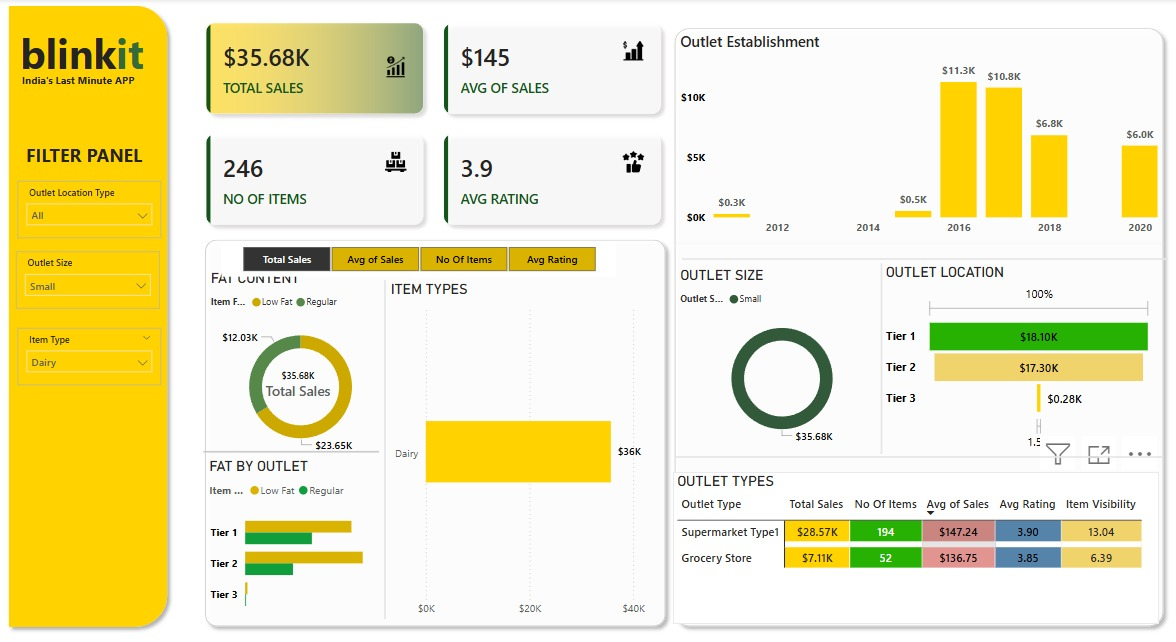

Layout of this report page (visuals, bound fields, positions):
{"tool":"powerbi","page":{"name":"Page 1","canvas":[1400,800],"ordinal":0},"visuals":[{"type":"shape","box":[10,0,205,750],"z":0},{"type":"textbox","box":[28.9,26.9,171.6,86.8],"z":1000},{"type":"textbox","box":[29.4,81.1,158.9,37.2],"z":2000},{"type":"cardVisual","fields":{"Data":["BlinkIT Grocery Data.Total Sales","BlinkIT Grocery Data.Avg of Sales","BlinkIT Grocery Data.No Of Items","BlinkIT Grocery Data.Avg Rating"]},"box":[235.6,12.2,570,273.3],"z":3000},{"type":"shape","box":[242.1,275.7,560.2,473.6],"z":4000},{"type":"donutChart","title":"FAT CONTENT","fields":{"Y":["BlinkIT Grocery Data.Total Sales"],"Category":["BlinkIT Grocery Data.Item Fat Content"]},"box":[251,328.7,220.9,229.8],"z":5000},{"type":"slicer","fields":{"Values":["Parameter.Parameter"]},"box":[270.4,286.3,464.8,42],"z":6000},{"type":"cardVisual","fields":{"Data":["BlinkIT Grocery Data.Total Sales"]},"box":[289.8,394.1,127.2,137.9],"z":7000},{"type":"clusteredBarChart","title":"FAT BY OUTLET","fields":{"Y":["BlinkIT Grocery Data.Total Sales"],"Category":["BlinkIT Grocery Data.Outlet Location Type"],"Series":["BlinkIT Grocery Data.Item Fat Content"]},"box":[251,540.8,220.9,196.2],"z":8000},{"type":"shape","box":[805.9,282.8,572.6,12.4],"z":8001},{"type":"barChart","title":"ITEM TYPES","fields":{"Category":["BlinkIT Grocery Data.Item Type"],"Y":["BlinkIT Grocery Data.Total Sales"]},"box":[464.8,332.3,330.5,404.7],"z":8002},{"type":"shape","box":[795.3,26.5,593.8,722.8],"z":8003},{"type":"donutChart","title":"OUTLET SIZE","fields":{"Y":["BlinkIT Grocery Data.Total Sales"],"Category":["BlinkIT Grocery Data.Outlet Size"]},"box":[805.9,316.4,249.2,217.4],"z":8005},{"type":"funnel","title":"OUTLET LOCATION","fields":{"Y":["BlinkIT Grocery Data.Total Sales"],"Category":["BlinkIT Grocery Data.Outlet Location Type"]},"box":[1048,312.8,323.4,224.5],"z":8006},{"type":"pivotTable","title":"OUTLET TYPES","fields":{"Rows":["BlinkIT Grocery Data.Outlet Type"],"Values":["BlinkIT Grocery Data.Total Sales","BlinkIT Grocery Data.No Of Items","BlinkIT Grocery Data.Avg of Sales","BlinkIT Grocery Data.Avg Rating","Sum(BlinkIT Grocery Data.Item Visibility)"]},"box":[802.4,558.5,572.6,178.5],"z":8007},{"type":"clusteredColumnChart","title":" Outlet Establishment ","fields":{"Y":["BlinkIT Grocery Data.Total Sales"],"Category":["BlinkIT Grocery Data.Outlet Establishment Year"]},"box":[805.9,38.9,572.6,249.2],"z":8008},{"type":"shape","box":[249.2,526.7,206.8,15.9],"z":8009},{"type":"shape","box":[805.9,532,572.6,17.7],"z":8010},{"type":"shape","box":[456,332.3,14.1,399.4],"z":8011},{"type":"shape","box":[1041,312.8,14.1,224.5],"z":8012},{"type":"shape","box":[812.4,298.1,572.6,17.7],"z":8013},{"type":"slicer","fields":{"Values":["BlinkIT Grocery Data.Outlet Location Type"]},"box":[30,215.6,169.7,67.2],"z":8014},{"type":"slicer","fields":{"Values":["BlinkIT Grocery Data.Outlet Size"]},"box":[28.3,298.7,169.7,67.2],"z":8015},{"type":"slicer","fields":{"Values":["BlinkIT Grocery Data.Item Type"]},"box":[30,388.8,169.7,67.2],"z":8016},{"type":"textbox","box":[28.3,164.4,160.8,51.3],"z":8017}]}

Visuals, with their boxes on the page's 1400x800 design canvas (x1, y1, x2, y2). These are canvas units, not pixel positions in the 1176x642 screenshot, which may show the page scaled, cropped or inside an application window:
shape: box=[10, 0, 215, 750]
textbox: box=[29, 27, 200, 114]
textbox: box=[29, 81, 188, 118]
cardVisual - BlinkIT Grocery Data.Total Sales x BlinkIT Grocery Data.Avg of Sales: box=[236, 12, 806, 286]
shape: box=[242, 276, 802, 749]
"FAT CONTENT" donutChart: box=[251, 329, 472, 558]
slicer - Parameter.Parameter: box=[270, 286, 735, 328]
cardVisual - BlinkIT Grocery Data.Total Sales: box=[290, 394, 417, 532]
"FAT BY OUTLET" clusteredBarChart: box=[251, 541, 472, 737]
shape: box=[806, 283, 1378, 295]
"ITEM TYPES" barChart: box=[465, 332, 795, 737]
shape: box=[795, 26, 1389, 749]
"OUTLET SIZE" donutChart: box=[806, 316, 1055, 534]
"OUTLET LOCATION" funnel: box=[1048, 313, 1371, 537]
"OUTLET TYPES" pivotTable: box=[802, 558, 1375, 737]
" Outlet Establishment " clusteredColumnChart: box=[806, 39, 1378, 288]
shape: box=[249, 527, 456, 543]
shape: box=[806, 532, 1378, 550]
shape: box=[456, 332, 470, 732]
shape: box=[1041, 313, 1055, 537]
shape: box=[812, 298, 1385, 316]
slicer - BlinkIT Grocery Data.Outlet Location Type: box=[30, 216, 200, 283]
slicer - BlinkIT Grocery Data.Outlet Size: box=[28, 299, 198, 366]
slicer - BlinkIT Grocery Data.Item Type: box=[30, 389, 200, 456]
textbox: box=[28, 164, 189, 216]
